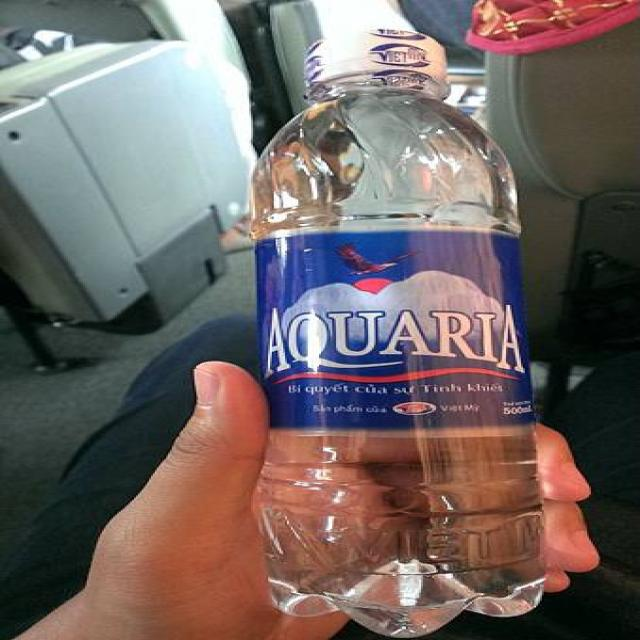plastic: (256, 30, 546, 636)
